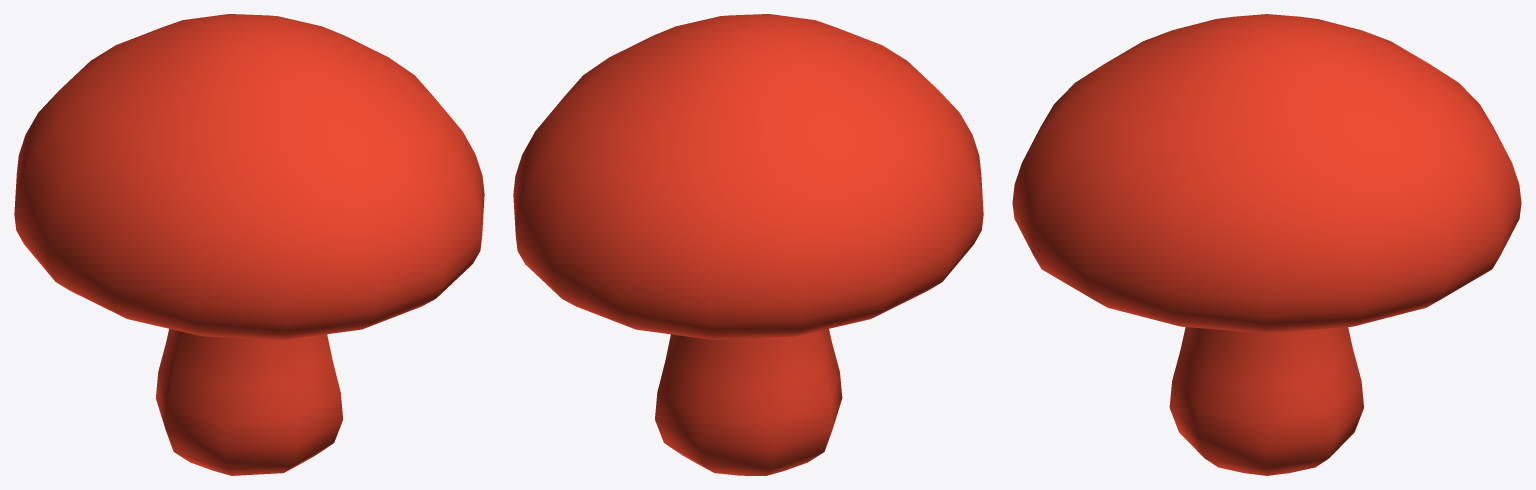
The model's file is CogumeloVermelho.fbx.
3 views of the same model, side by side, from view 1: azimuth 30°, elevation 25°; view 2: azimuth 150°, elevation 25°; view 3: azimuth 270°, elevation 25° (orthographic).
Parts seen in each view (by area): view 1: Circle.003; view 2: Circle.003; view 3: Circle.003.
Boxes of the visible parts, x1,y1,x2,y2 form: Circle.003: (14,14,484,475); Circle.003: (513,14,983,475); Circle.003: (1012,14,1521,475).
Bounding box in the file's own units: 13.28 × 13.31 × 14.44.
